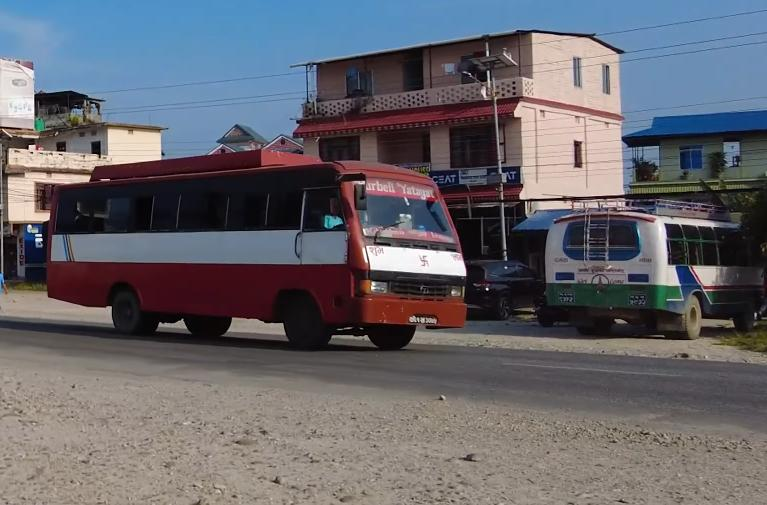bus: (27, 142, 469, 354), (541, 188, 767, 347)
